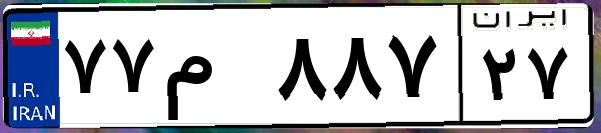2: (475, 38, 525, 113)
7: (385, 28, 445, 110), (57, 26, 110, 100), (525, 38, 570, 115), (110, 28, 158, 98)
8: (270, 28, 330, 110), (330, 28, 385, 110)
م: (158, 20, 270, 120)
